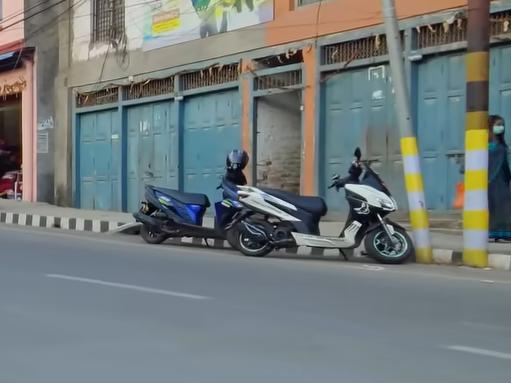scooter: (234, 146, 418, 268), (136, 163, 277, 258)
